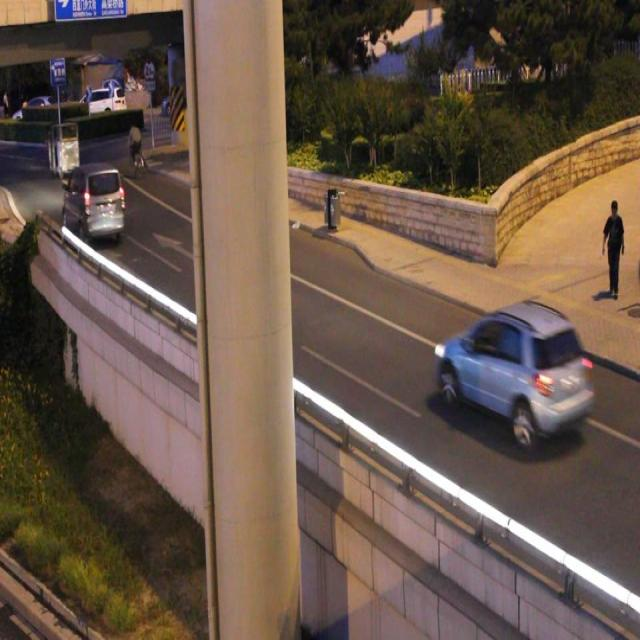car: (437, 302, 592, 431), (64, 164, 124, 238)
